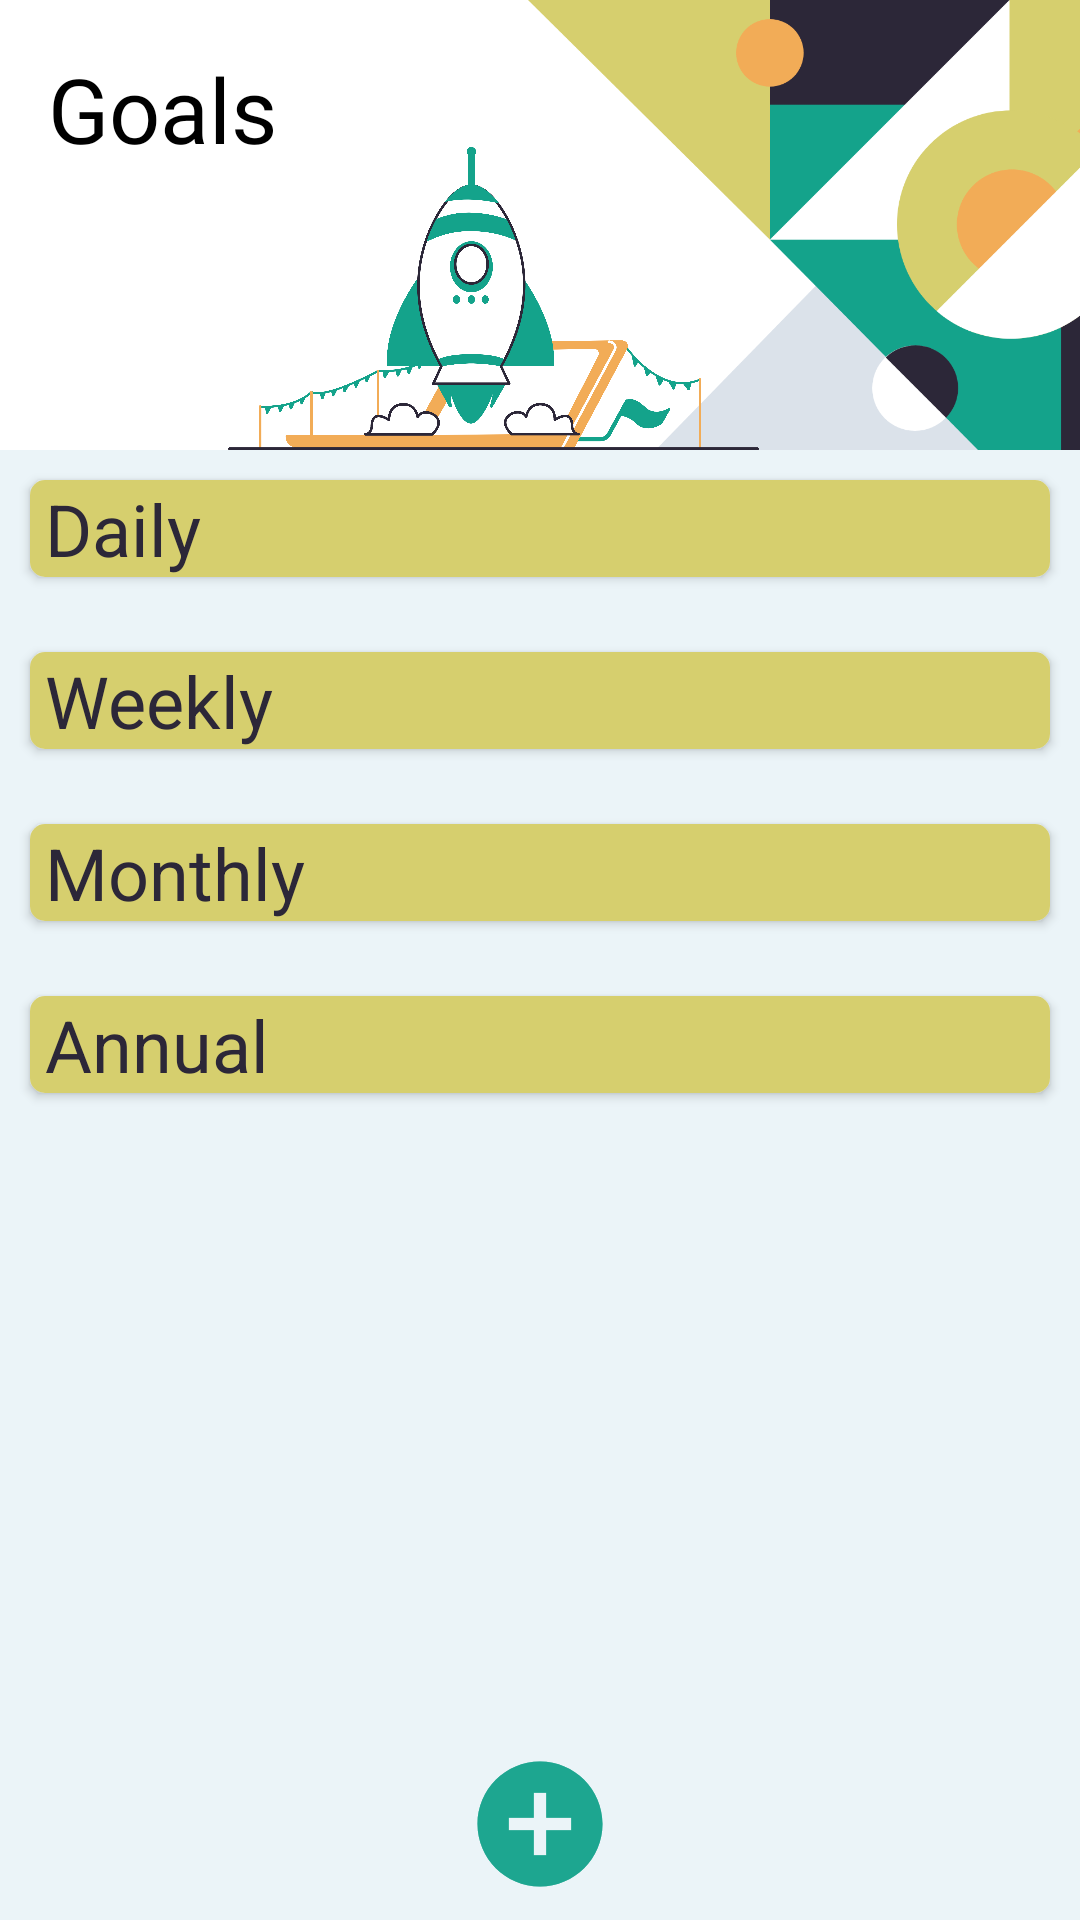

Where to tap for icons on this 1080 x 1920 app screen, as [x,y]:
add: [540,1824]
